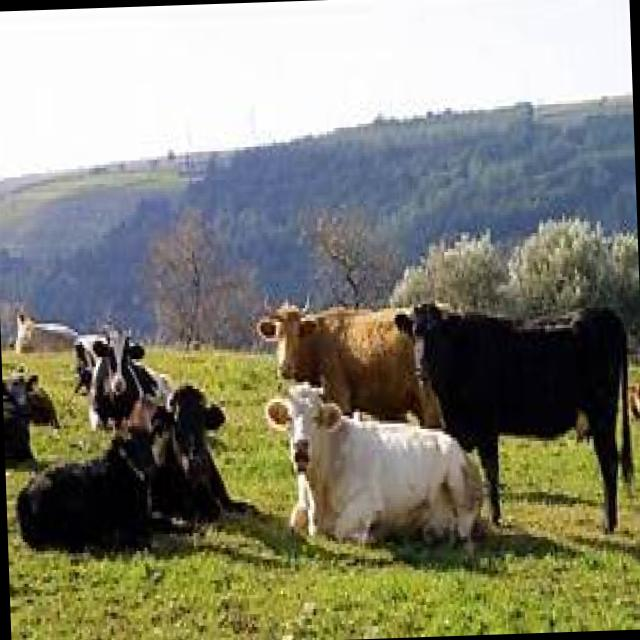animal: (394, 293, 637, 541), (264, 372, 492, 565), (258, 294, 446, 434), (86, 323, 178, 432)
